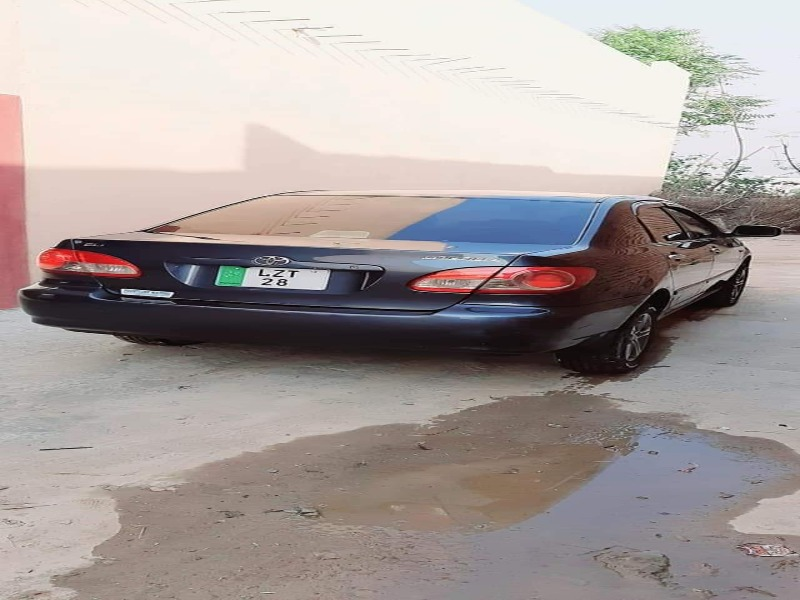License Plate: (210, 260, 334, 298)
